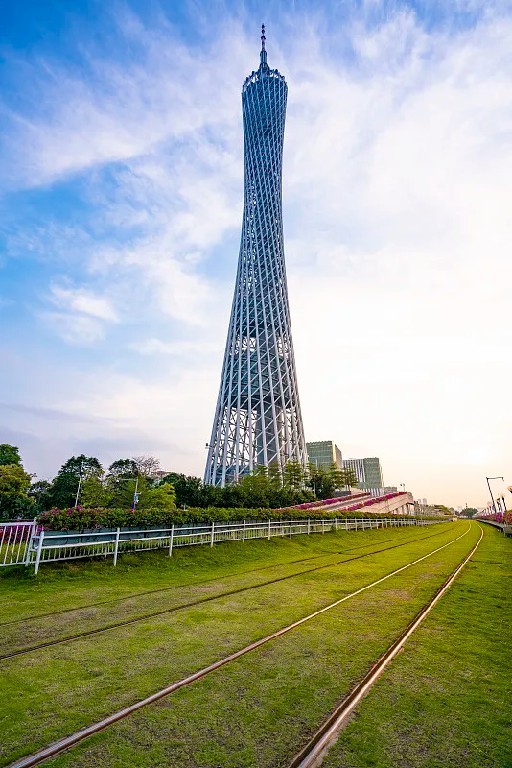Canton: (202, 25, 312, 494)
